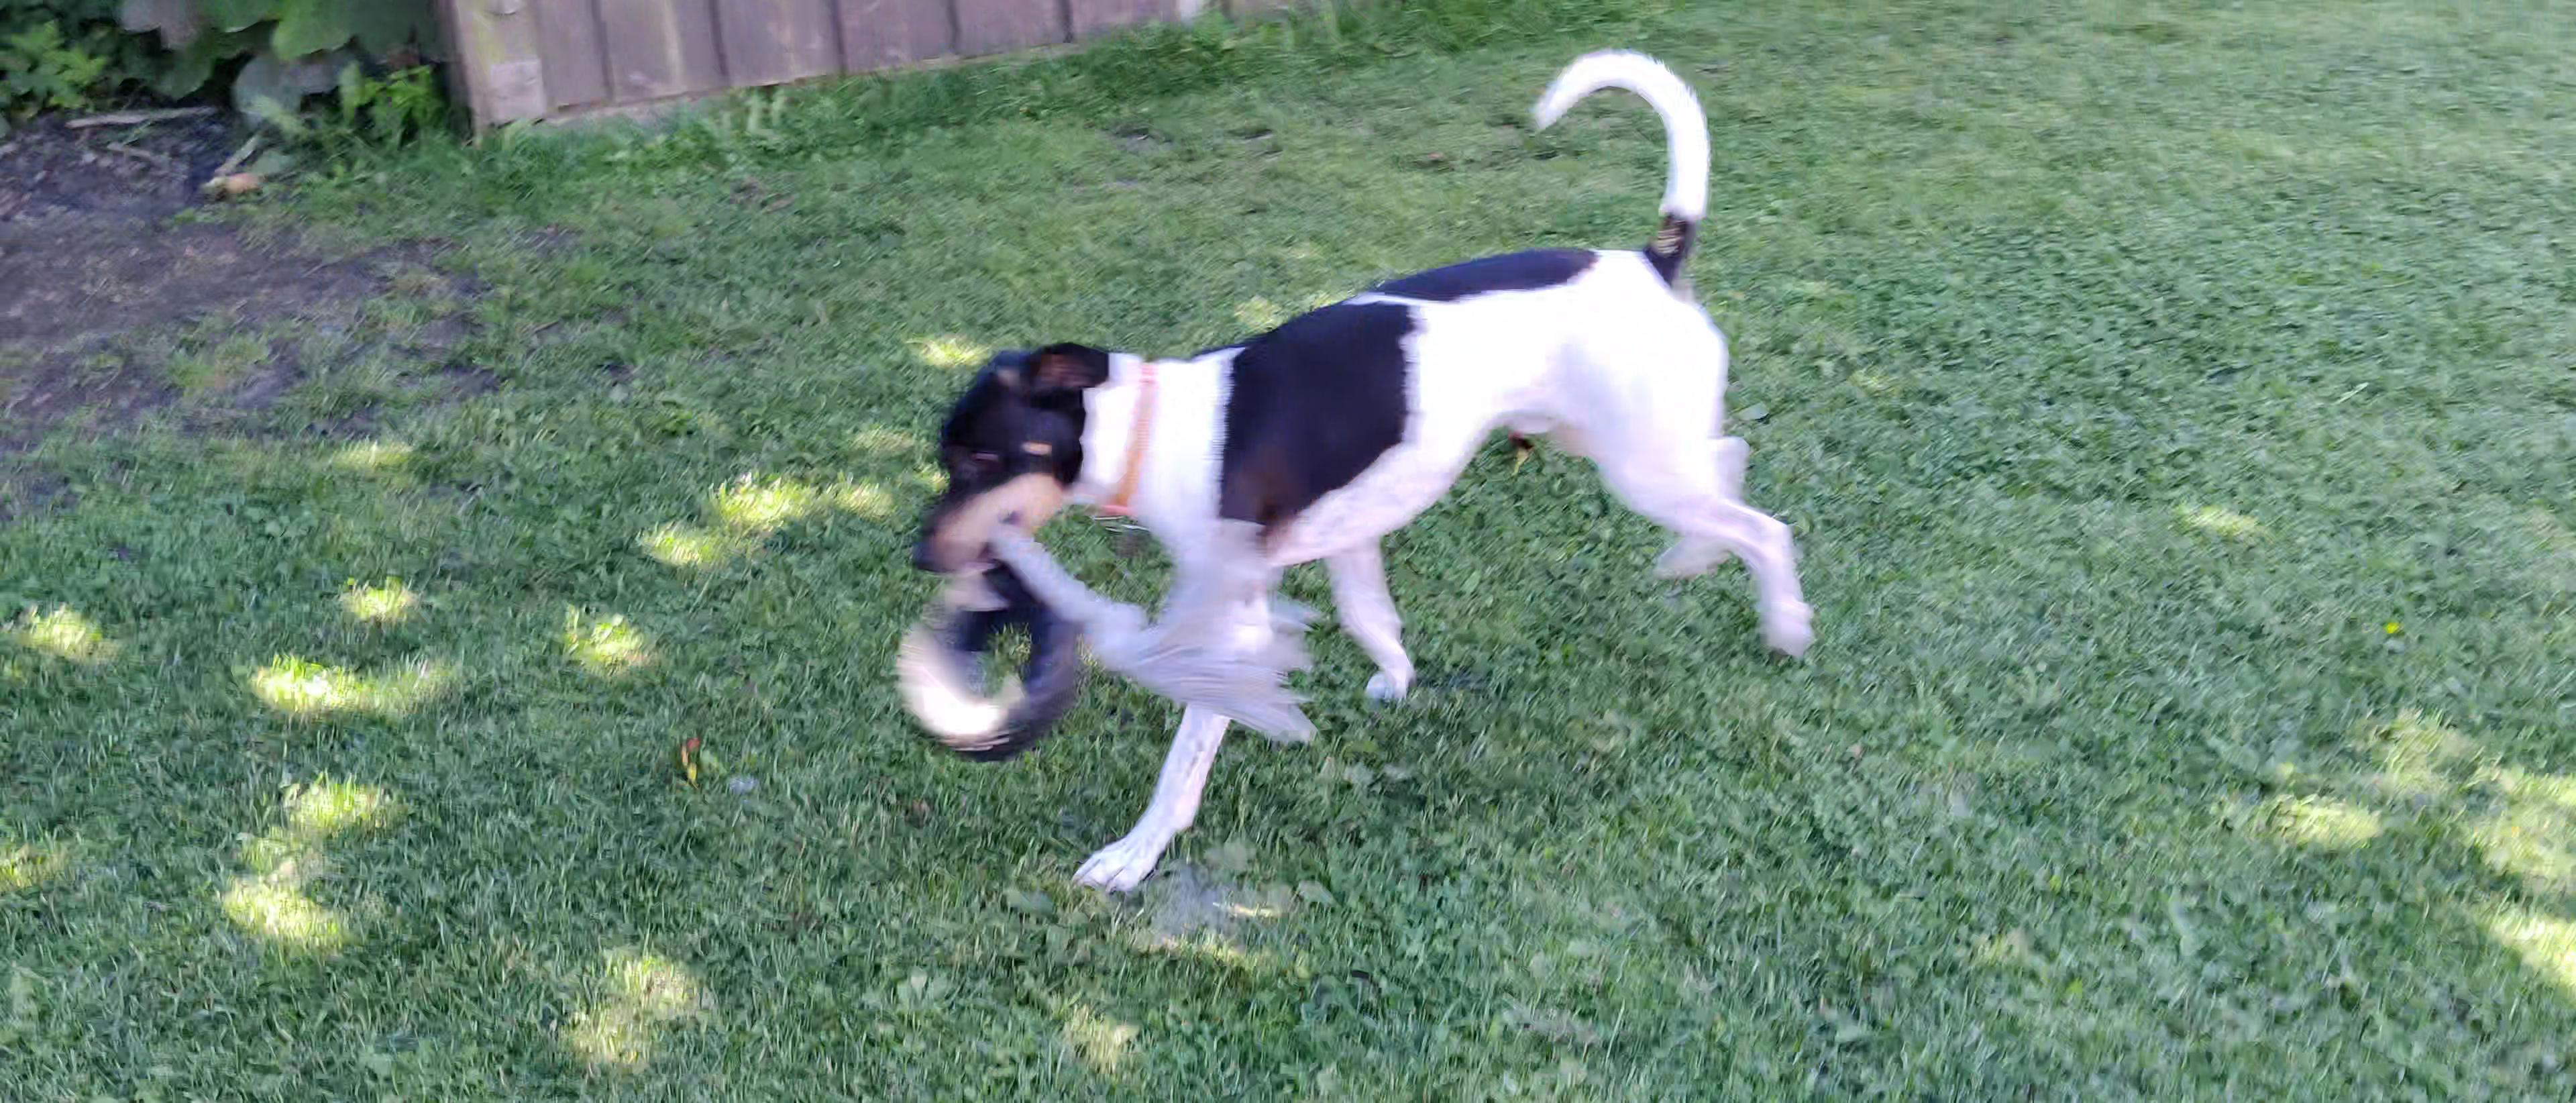Dog: (864, 38, 1845, 902)
